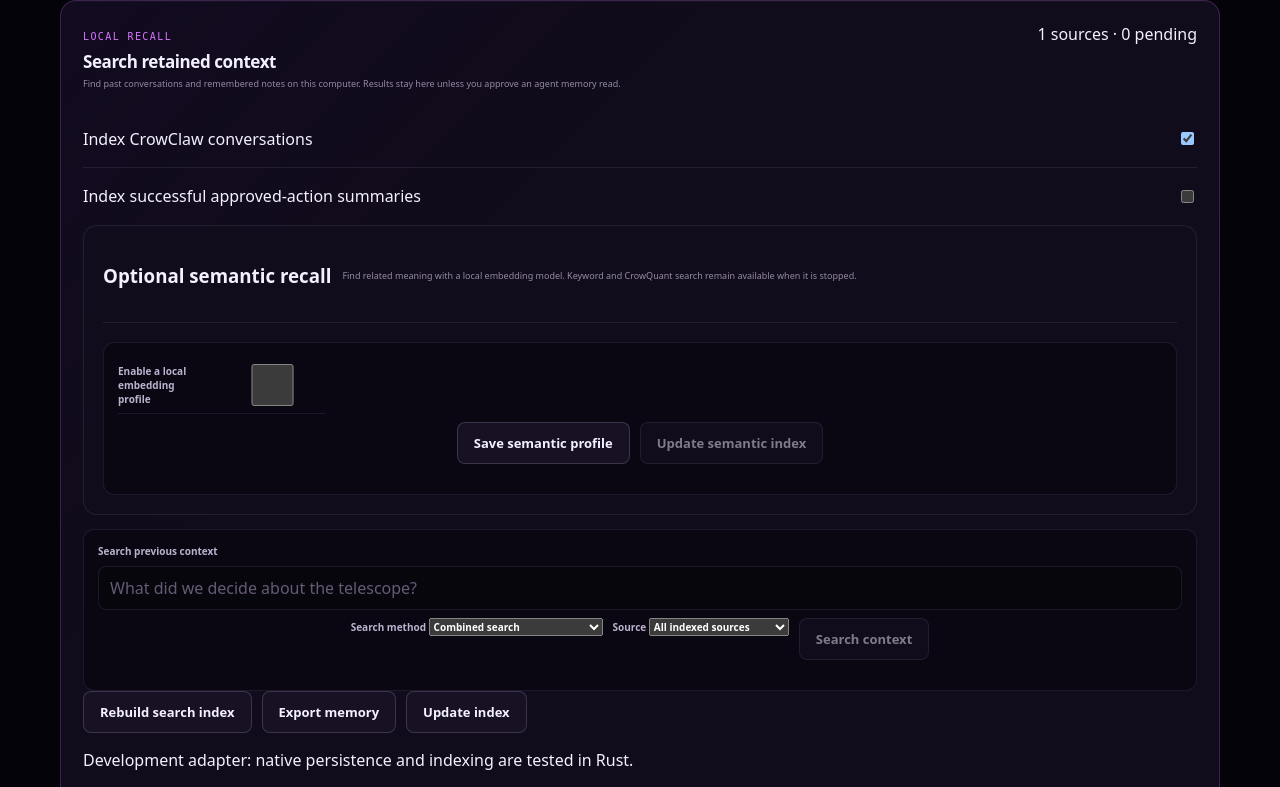
Native memory controls › reports an export only after the native save completes and handles cancellation
The image size is (1280, 787).
Expected: the heading "Search retained context" is shown, [83,50,276,73]
Click the button "Export memory".
click(329, 712)  # box [262,691,396,733]
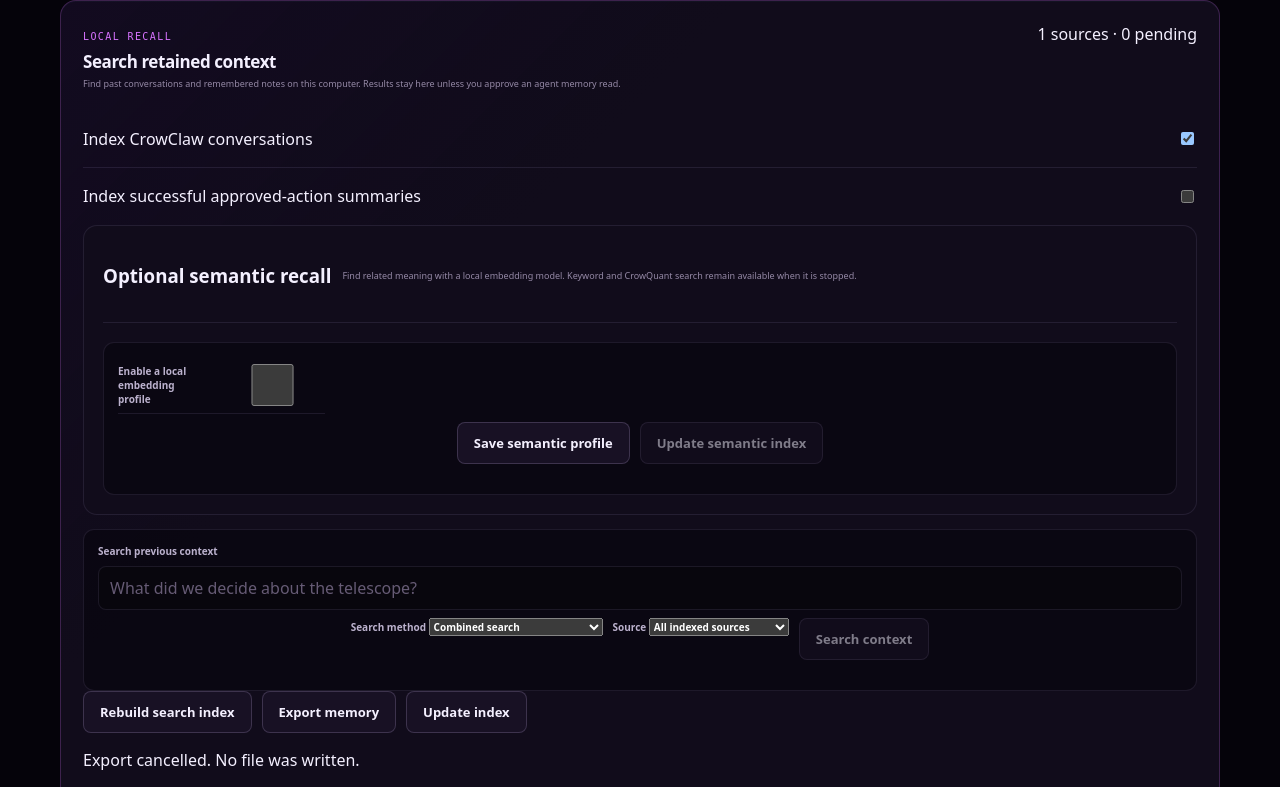
Result: the text "Export cancelled. No file was written." is shown at [83,749,360,771]
Click the button "Export memory".
click(329, 712)  # box [262,691,396,733]
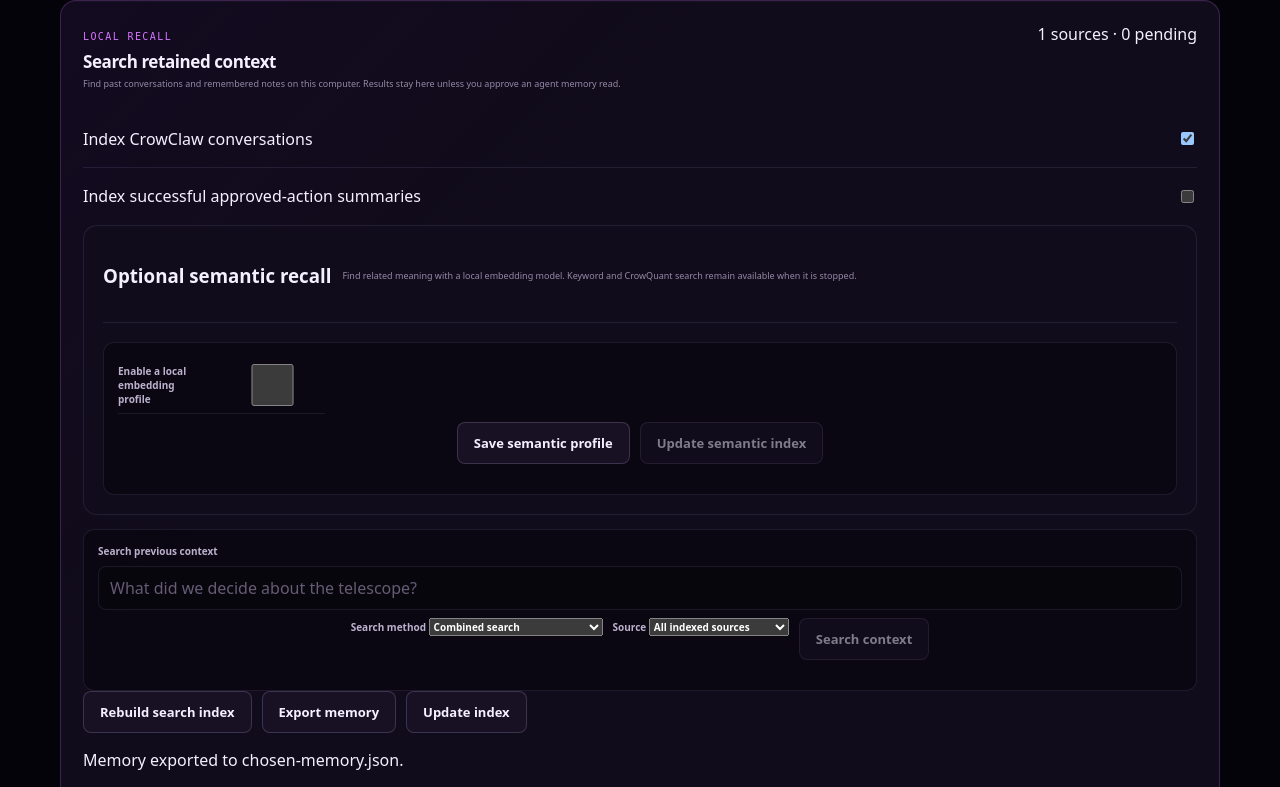
Result: the text "Memory exported to chosen-memory.json." is shown at [83,749,404,771]
